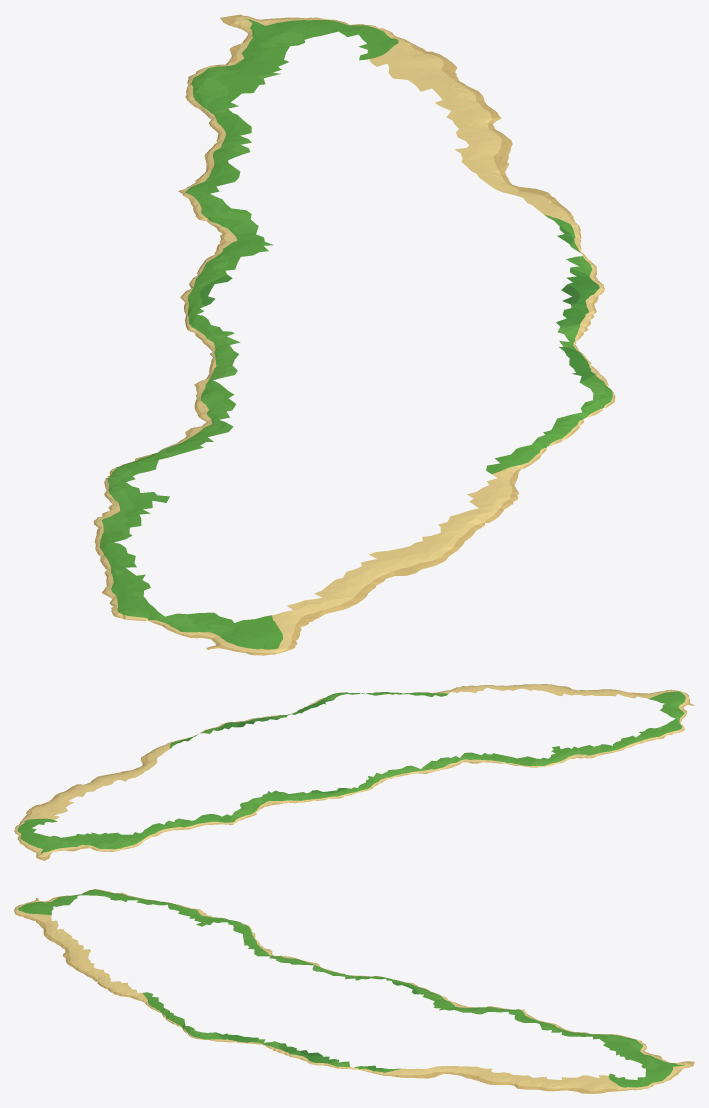
Rendered from Isl-long6-Ground.fbx.
3 renders of one model, top to bottom at view 1: azimuth 30°, elevation 25°; view 2: azimuth 150°, elevation 25°; view 3: azimuth 270°, elevation 25°, orthographic. The views are drawn at different scales.
Visible parts, largest first — view 1: Isl-long6-Ground-c11, Isl-long6-Ground-c22, Isl-long6-Ground-c12, Isl-long6-Ground-c21, Isl-long6-Ground-c23; view 2: Isl-long6-Ground-c11, Isl-long6-Ground-c22, Isl-long6-Ground-c12, Isl-long6-Ground-c23, Isl-long6-Ground-c21; view 3: Isl-long6-Ground-c11, Isl-long6-Ground-c22, Isl-long6-Ground-c21, Isl-long6-Ground-c12, Isl-long6-Ground-c23.
Part boxes in pixels (x1,y1,x2,y2): Isl-long6-Ground-c11: (93,360,566,655); Isl-long6-Ground-c22: (185,26,596,276); Isl-long6-Ground-c12: (178,172,273,370); Isl-long6-Ground-c21: (555,276,615,438); Isl-long6-Ground-c23: (197,14,378,71); Isl-long6-Ground-c11: (381,684,694,774); Isl-long6-Ground-c22: (15,727,223,851); Isl-long6-Ground-c12: (207,769,408,825); Isl-long6-Ground-c23: (14,828,105,860); Isl-long6-Ground-c21: (216,692,386,729); Isl-long6-Ground-c11: (14,889,328,1018); Isl-long6-Ground-c22: (327,1016,645,1093); Isl-long6-Ground-c21: (165,1017,329,1065); Isl-long6-Ground-c12: (328,969,534,1018); Isl-long6-Ground-c23: (640,1044,694,1088).
Size of the model in its own units: 91.32 by 0.4899 by 128.
